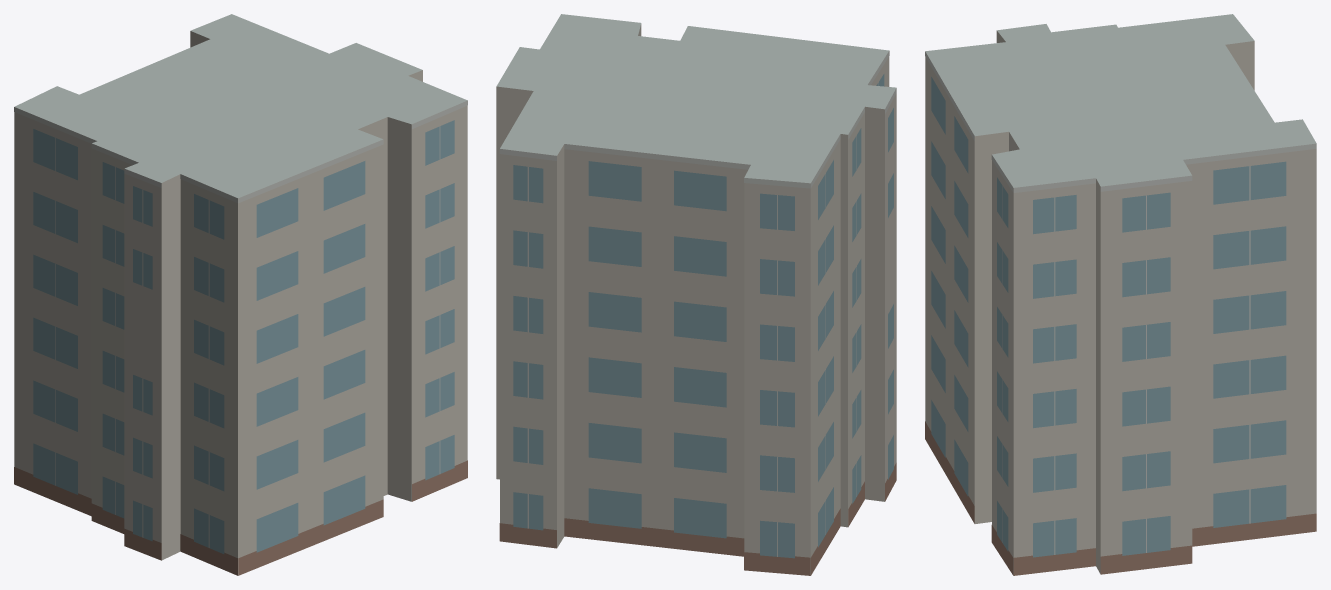
File: survey-upis-32649466.glb
3 views of the same model, side by side, from view 1: azimuth 30°, elevation 25°; view 2: azimuth 150°, elevation 25°; view 3: azimuth 270°, elevation 25° (orthographic). The views are drawn at different scales.
Parts seen in each view (by area): view 1: survey-upis-32649466.tmp; view 2: survey-upis-32649466.tmp; view 3: survey-upis-32649466.tmp.
Part boxes in pixels (x1=…): survey-upis-32649466.tmp: x1=14, y1=14, x2=467, y2=575; survey-upis-32649466.tmp: x1=496, y1=14, x2=896, y2=575; survey-upis-32649466.tmp: x1=925, y1=14, x2=1316, y2=575.
Size of the model in its own units: 17.51 by 18.2 by 16.66.
